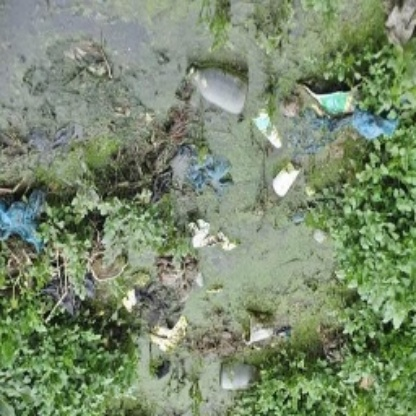bottle: (185, 62, 253, 116), (252, 107, 285, 150)
